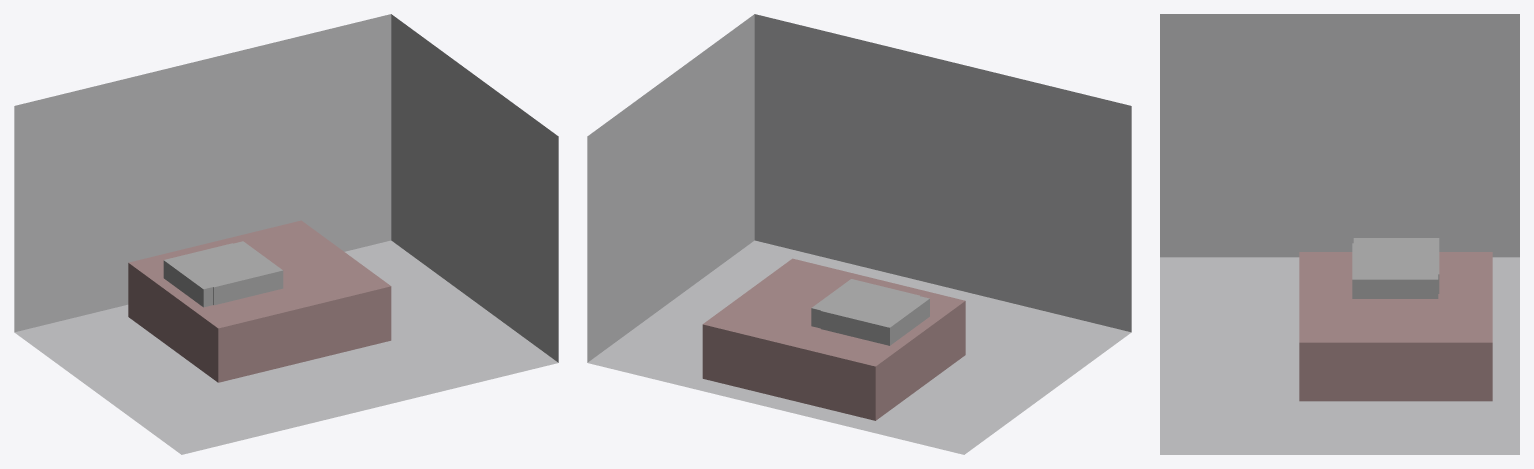
File: optimised_layout.glb
3 renders of one model, left to right at view 1: azimuth 30°, elevation 25°; view 2: azimuth 150°, elevation 25°; view 3: azimuth 270°, elevation 25°, orthographic. The views are drawn at different scales.
Parts seen in each view (by area): view 1: room, bed, tableLamp, studyTable; view 2: room, bed, studyTable, tableLamp; view 3: room, bed, tableLamp, studyTable.
Part boxes in pixels (box(x1,y1,x2,y2)): room: box(14, 14, 558, 454); bed: box(128, 220, 391, 382); tableLamp: box(174, 241, 283, 305); studyTable: box(163, 243, 233, 307); room: box(587, 14, 1131, 454); bed: box(702, 258, 965, 420); studyTable: box(820, 281, 929, 345); tableLamp: box(811, 279, 920, 328); room: box(1160, 14, 1519, 454); bed: box(1299, 252, 1492, 401); tableLamp: box(1352, 243, 1438, 298); studyTable: box(1353, 238, 1439, 293).
Size of the model in its own units: 4.36 by 2.5 by 3.35.
